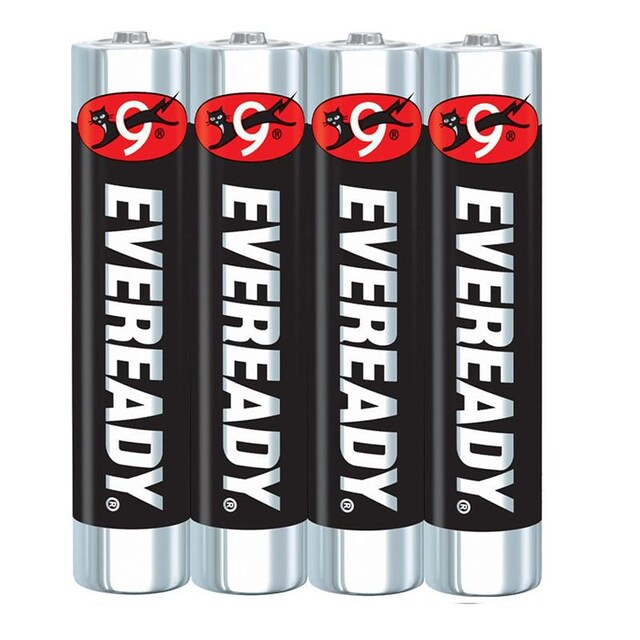Battery: (420, 27, 547, 603), (66, 25, 192, 597), (305, 29, 425, 602), (190, 29, 307, 597)
